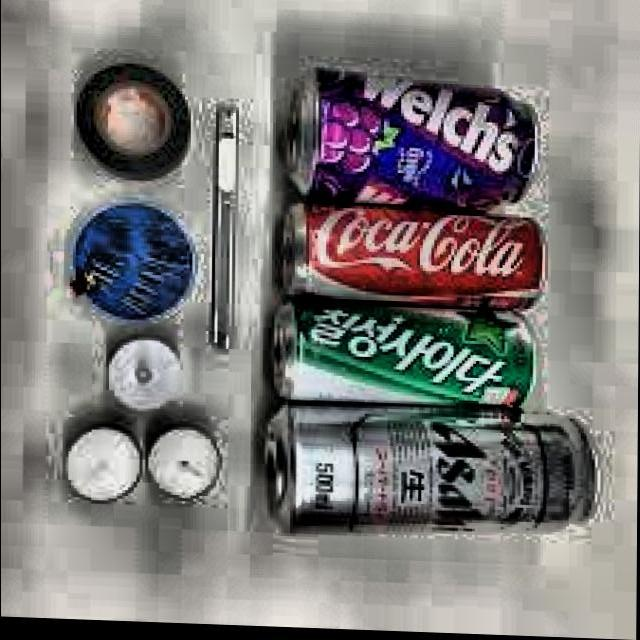Aluminum Can: (259, 398, 606, 552), (282, 59, 548, 218), (262, 299, 544, 420), (275, 200, 550, 318)
